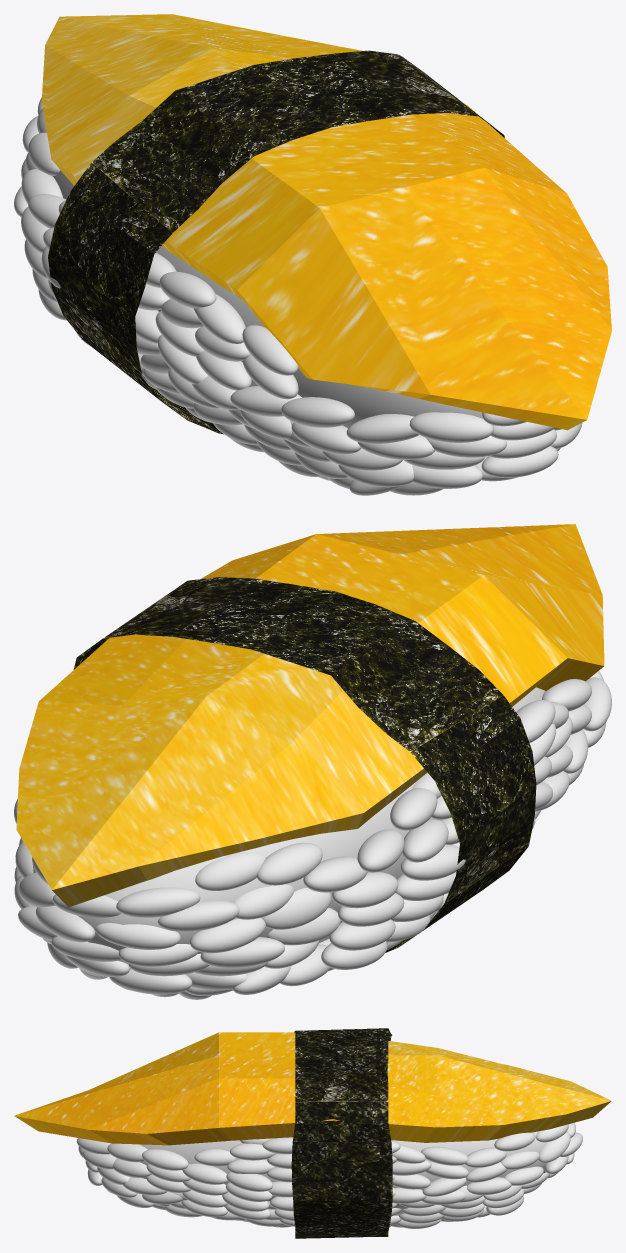
The model's file is kazunoko.fbx.
3 renders of one model, top to bottom at view 1: azimuth 30°, elevation 25°; view 2: azimuth 150°, elevation 25°; view 3: azimuth 270°, elevation 25°, orthographic. The views are drawn at different scales.
Parts seen in each view (by area): view 1: 平面, 円, 球, 球.117, 球.139, 球.118, 球.137, 球.148, 球.134, 球.158, 球.131, 球.157 (+21 smaller); view 2: 平面, 円, 球, 球.233, 球.172, 球.228, 球.227, 球.181, 球.174, 球.224, 球.225, 球.173 (+28 smaller); view 3: 平面, 円, 球, 球.038, 球.041, 球.018, 球.040, 球.231, 球.074, 球.235, 球.073, 球.024 (+39 smaller).
Boxes of the visible parts, x1,y1,x2,y2 form: 平面: [41, 14, 611, 430]; 円: [48, 50, 504, 434]; 球: [52, 170, 493, 428]; 球.117: [409, 412, 493, 442]; 球.139: [281, 397, 354, 427]; 球.118: [346, 414, 418, 443]; 球.137: [242, 325, 298, 375]; 球.148: [159, 271, 216, 308]; 球.134: [193, 294, 245, 343]; 球.158: [481, 446, 558, 477]; 球.131: [291, 422, 361, 454]; 球.157: [412, 465, 482, 488]; 平面: [16, 524, 604, 907]; 円: [73, 577, 536, 952]; 球: [32, 687, 544, 974]; 球.233: [256, 842, 322, 885]; 球.172: [116, 887, 200, 917]; 球.228: [195, 852, 266, 890]; 球.227: [190, 917, 265, 953]; 球.181: [158, 900, 239, 931]; 球.174: [95, 923, 180, 949]; 球.224: [261, 887, 331, 929]; 球.225: [303, 856, 367, 892]; 球.173: [200, 937, 284, 967]; 平面: [14, 1032, 611, 1145]; 円: [291, 1028, 392, 1238]; 球: [139, 1131, 549, 1215]; 球.038: [142, 1149, 188, 1170]; 球.041: [182, 1163, 227, 1184]; 球.018: [421, 1146, 468, 1165]; 球.040: [226, 1172, 273, 1191]; 球.231: [465, 1147, 506, 1167]; 球.074: [230, 1143, 276, 1160]; 球.235: [107, 1143, 147, 1162]; 球.073: [227, 1159, 274, 1174]; 球.024: [467, 1177, 511, 1195].
Size of the model in its own units: 240 by 178 by 547.
3 materials, 2 textured.
